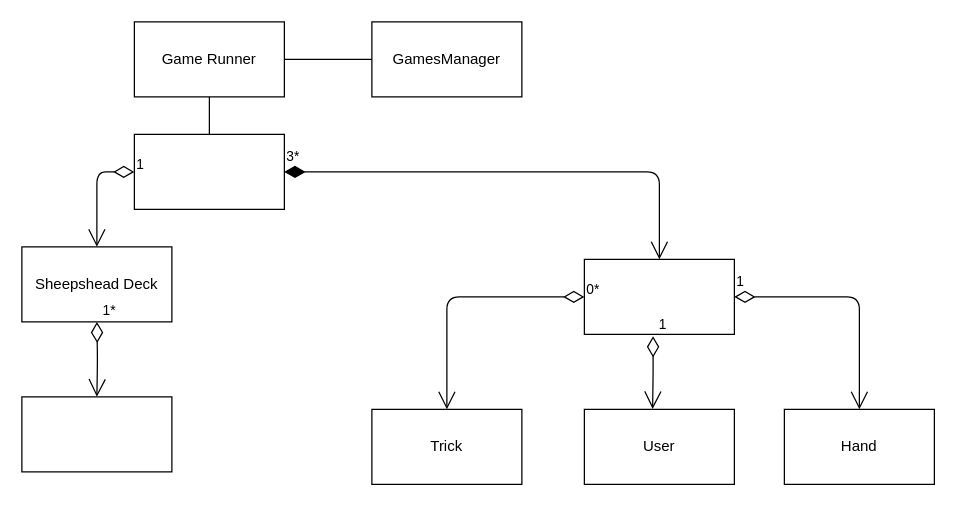
Image size: 956x506. Some labels were removed from this diagram. Each missing label, with the centre of its shape:
"Card" goes at point 96,434.
"Game" goes at point 208,171.
"Player" goes at point 658,296.
